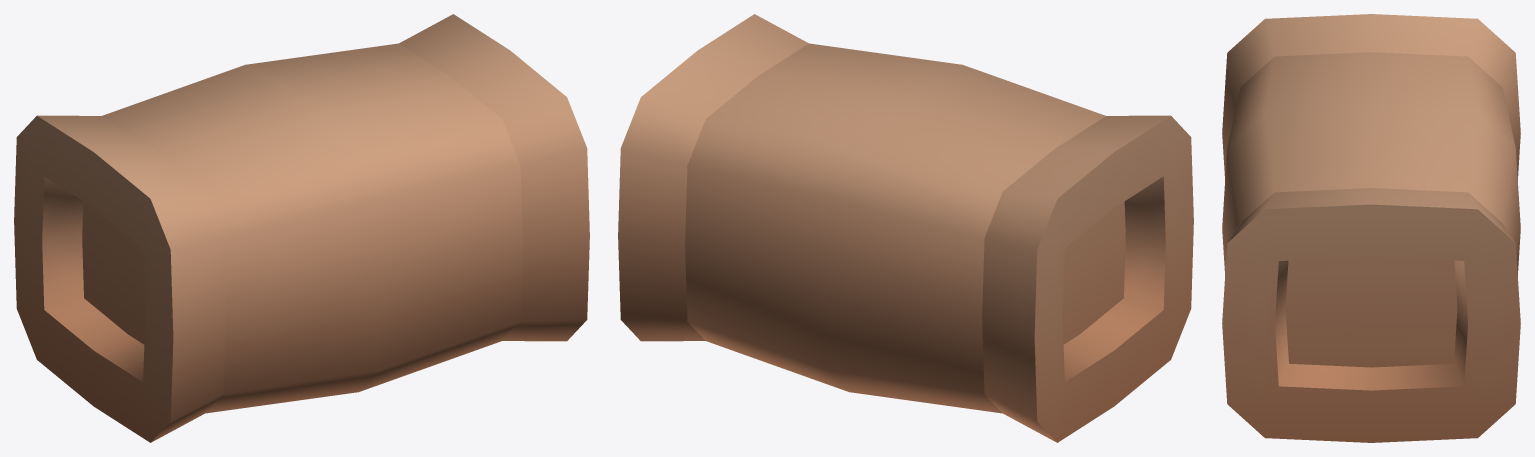
File: hay.glb
3 views of the same model, side by side, from view 1: azimuth 30°, elevation 25°; view 2: azimuth 150°, elevation 25°; view 3: azimuth 270°, elevation 25° (orthographic). The views are drawn at different scales.
Parts seen in each view (by area): view 1: hay-bale-2; view 2: hay-bale-2; view 3: hay-bale-2.
Part boxes in pixels (<box>): hay-bale-2: <box>14,14,589,442</box>; hay-bale-2: <box>618,14,1193,442</box>; hay-bale-2: <box>1222,14,1520,442</box>.
Bounding box in the file's own units: 0.6066 × 0.3541 × 0.4019.
